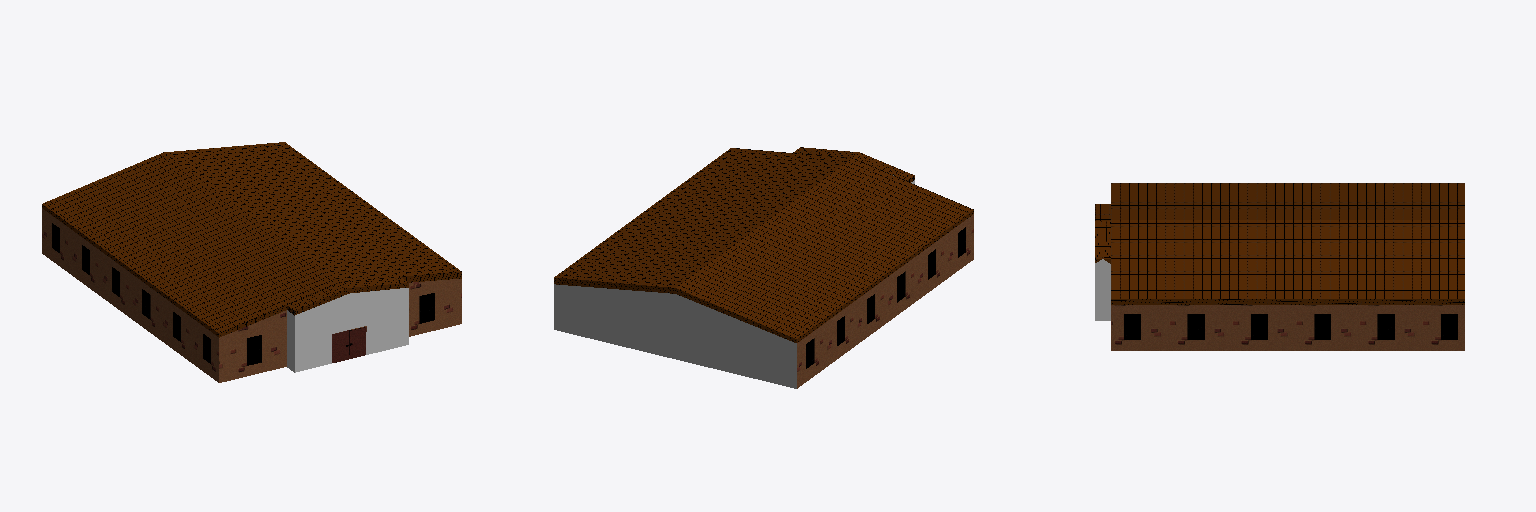
3 renders of one model, left to right at view 1: azimuth 30°, elevation 25°; view 2: azimuth 150°, elevation 25°; view 3: azimuth 270°, elevation 25°, orthographic.
Parts seen in each view (by area): view 1: Cube, Cube.002; view 2: Cube, Cube.002; view 3: Cube, Cube.002.
Part boxes in pixels (bbox=[...]): Cube: bbox=[42, 142, 461, 382]; Cube.002: bbox=[287, 277, 408, 372]; Cube: bbox=[554, 148, 973, 388]; Cube.002: bbox=[793, 147, 914, 183]; Cube: bbox=[1111, 183, 1464, 350]; Cube.002: bbox=[1095, 204, 1110, 320].
Bounding box in the file's own units: 2.5 × 0.7062 × 3.31.
Materials: 8 (3 with a texture image).